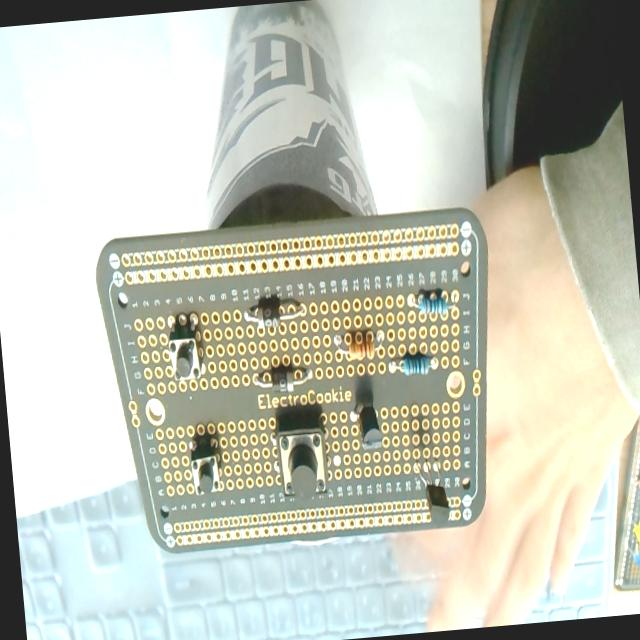diode: (242, 295, 302, 330), (254, 364, 312, 394)
resistor: (332, 326, 386, 362), (389, 350, 438, 379), (418, 291, 448, 317)
switch: (272, 412, 332, 502), (166, 314, 206, 386), (188, 435, 222, 496)
transistor: (414, 452, 451, 526), (348, 397, 386, 452)
